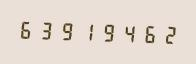four: (117, 20, 136, 45)
nine: (57, 18, 76, 43), (97, 19, 116, 44)
one: (77, 19, 96, 43)
six: (137, 21, 156, 46), (17, 17, 36, 41)
three: (37, 17, 56, 42)
two: (157, 22, 176, 46)
